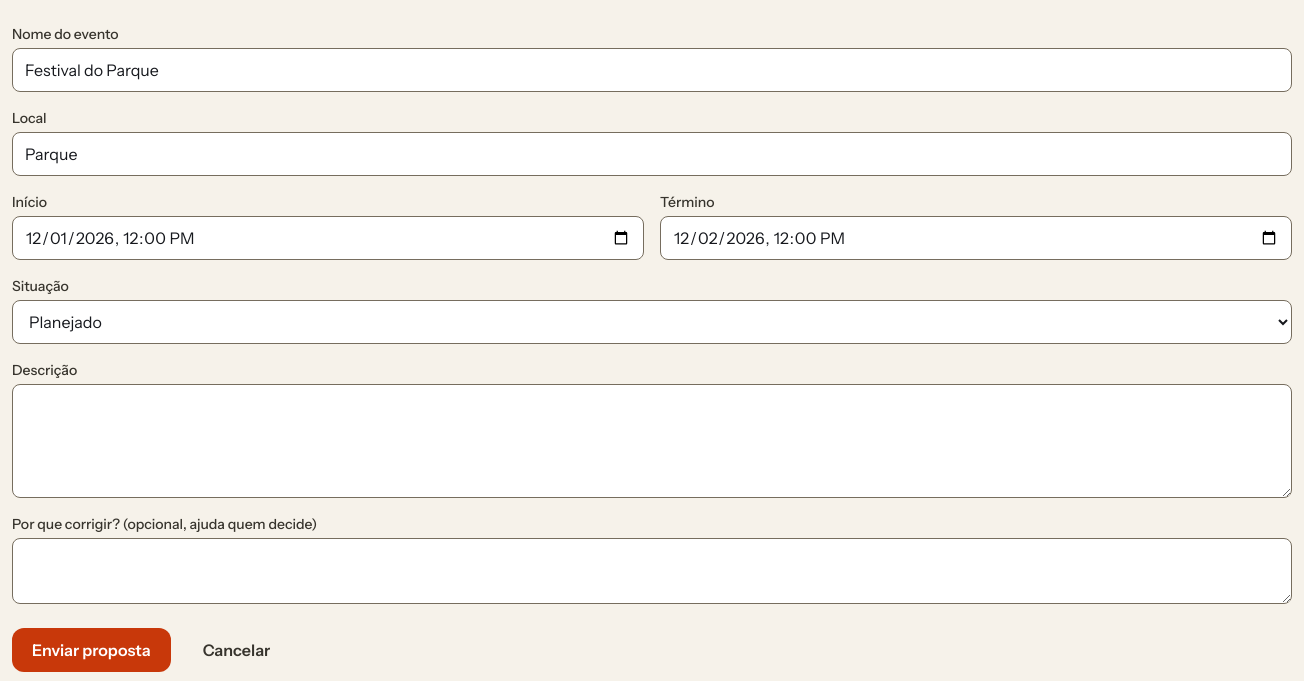
ProposeChangeForm › sem alterar nada, não envia e pede para alterar um campo
Step 1. Click the button "Enviar proposta" → (91, 650), box [12,628,171,672]
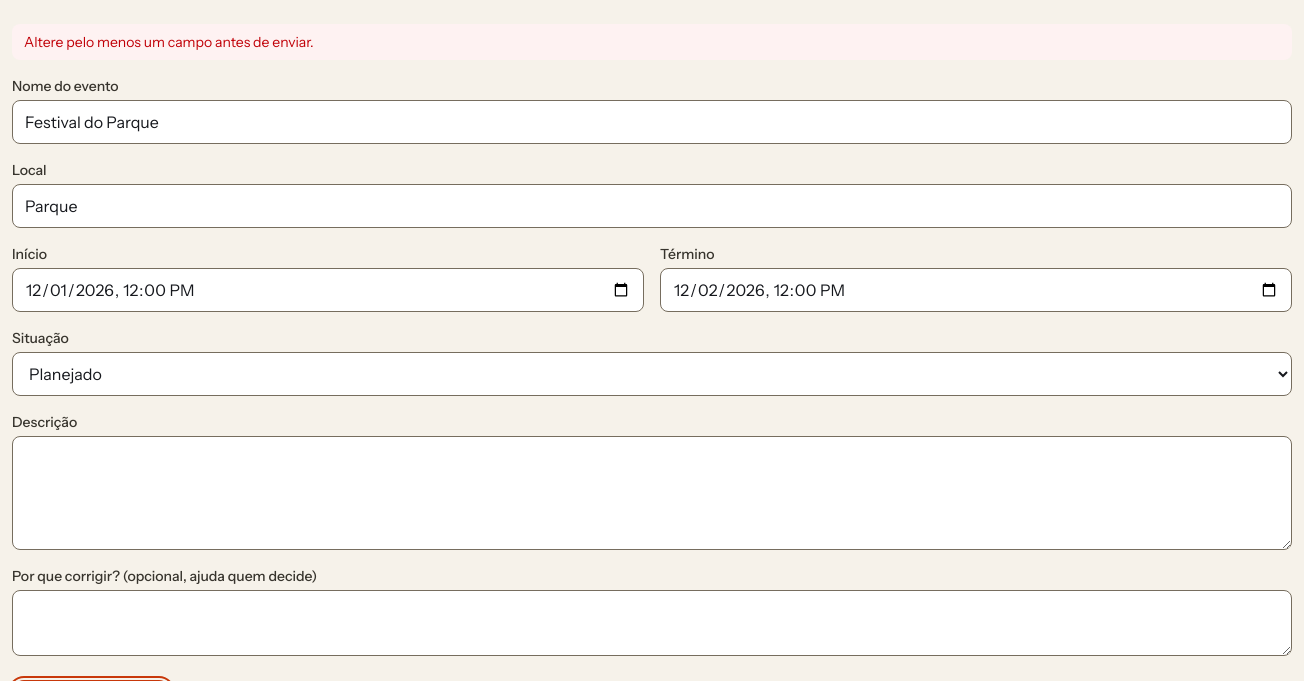
Now the message reads "Altere pelo menos um campo antes de enviar.", box [24,33,314,51]
